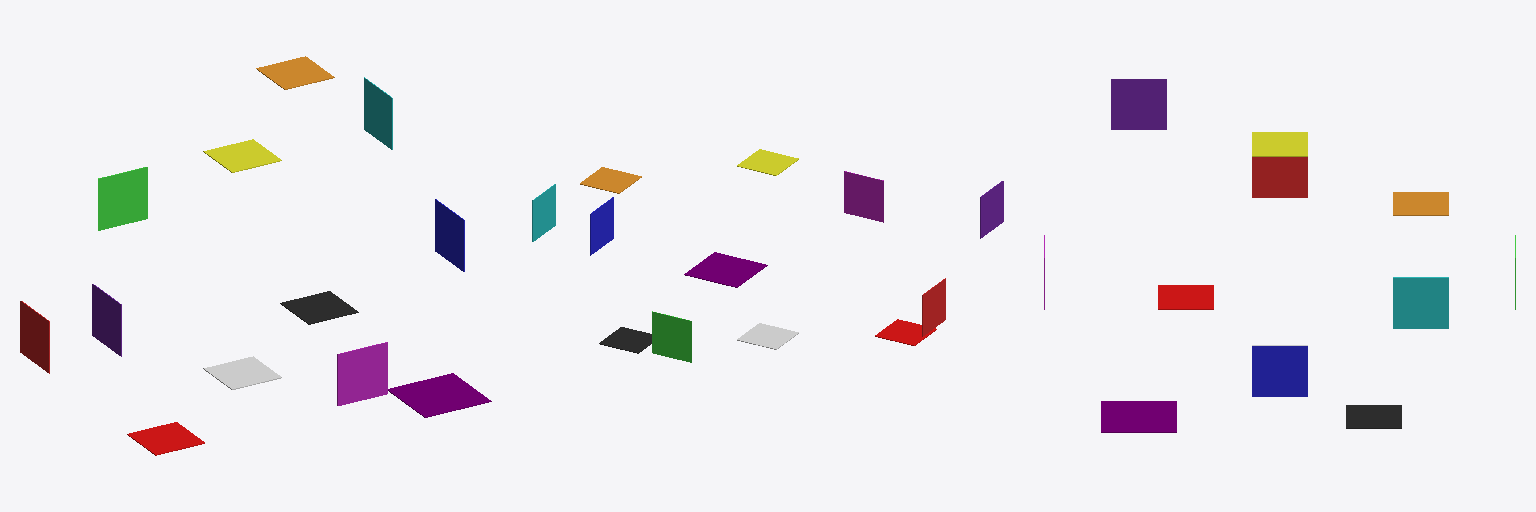
The robot description file, URDF, robot "marker_field":
<?xml version="1.0"?>
<robot name="marker_field">
  <!-- Base link to anchor all markers -->
  <link name="world">
    <inertial>
      <mass value="0.001"/>
      <inertia ixx="1e-6" ixy="0" ixz="0" iyy="1e-6" iyz="0" izz="1e-6"/>
    </inertial>
  </link>

  <!-- Floor marker at origin -->
  <link name="floor_center_white">
    <visual>
      <origin xyz="0 0 0" rpy="0 0 0"/>
      <geometry>
        <box size="0.6 0.6 0.01"/>
      </geometry>
      <material name="white">
        <color rgba="0.9 0.9 0.9 1.0"/>
      </material>
    </visual>
  </link>
  <joint name="world_to_marker_floor_center" type="fixed">
    <parent link="world"/>
    <child link="floor_center_white"/>
    <origin xyz="0 0 0" rpy="0 0 0"/>
  </joint>

  <!-- Floor marker offset -->
  <link name="floor_gray">
    <visual>
      <origin xyz="0 0 0" rpy="0 0 0"/>
      <geometry>
        <box size="0.6 0.6 0.01"/>
      </geometry>
      <material name="gray">
        <color rgba="0.2 0.2 0.2 1.0"/>
      </material>
    </visual>
  </link>
  <joint name="world_to_floor_gray" type="fixed">
    <parent link="world"/>
    <child link="floor_gray"/>
    <origin xyz="1.5 1.0 0" rpy="0 0 0"/>
  </joint>

  <!-- Floor marker neg offset -->
  <link name="floor_red">
    <visual>
      <origin xyz="0 0 0" rpy="0 0 0"/>
      <geometry>
        <box size="0.6 0.6 0.01"/>
      </geometry>
      <material name="floor3">
        <color rgba="0.9 0.1 0.1 1.0"/>
      </material>
    </visual>
  </link>
  <joint name="world_to_floor_red" type="fixed">
    <parent link="world"/>
    <child link="floor_red"/>
    <origin xyz="-1.5 -1.0 0" rpy="0 0 0"/>
  </joint>

  <!-- Floor marker diagonal -->
  <link name="floor_purple">
    <visual>
      <origin xyz="0 0 0" rpy="0 0 0"/>
      <geometry>
        <box size="0.8 0.8 0.01"/>
      </geometry>
      <material name="floor4">
        <color rgba="0.5 0.0 0.5 1.0"/>
      </material>
    </visual>
  </link>
  <joint name="world_to_floor_purple" type="fixed">
    <parent link="world"/>
    <child link="floor_purple"/>
    <origin xyz="1.5 -1.5 0" rpy="0 0 0"/>
  </joint>

  <!-- Wall marker +X -->
  <link name="wall_x_blue">
    <visual>
      <origin xyz="0 0 0" rpy="0 1.5708 0"/>
      <geometry>
        <box size="0.6 0.6 0.01"/>
      </geometry>
      <material name="blue">
        <color rgba="0.2 0.2 0.9 1.0"/>
      </material>
    </visual>
  </link>
  <joint name="world_to_wall_x_blue" type="fixed">
    <parent link="world"/>
    <child link="wall_x_blue"/>
    <origin xyz="2.5 0 1.0" rpy="0 0 0"/>
  </joint>

  <!-- Wall marker -X -->
  <link name="wall_neg_x_red">
    <visual>
      <origin xyz="0 0 0" rpy="0 1.5708 0"/>
      <geometry>
        <box size="0.6 0.6 0.01"/>
      </geometry>
      <material name="red">
        <color rgba="0.9 0.2 0.2 1.0"/>
      </material>
    </visual>
  </link>
  <joint name="world_to_wall_neg_x_red" type="fixed">
    <parent link="world"/>
    <child link="wall_neg_x_red"/>
    <origin xyz="-2.5 0 1.0" rpy="0 0 0"/>
  </joint>

  <!-- Wall marker +Y -->
  <link name="wall_pos_y_green">
    <visual>
      <origin xyz="0 0 0" rpy="1.5708 1.5708 0"/>
      <geometry>
        <box size="0.6 0.6 0.01"/>
      </geometry>
      <material name="green">
        <color rgba="0.3 0.9 0.3 1.0"/>
      </material>
    </visual>
  </link>
  <joint name="world_to_wall_pos_y_green" type="fixed">
    <parent link="world"/>
    <child link="wall_pos_y_green"/>
    <origin xyz="0 2.5 1.0" rpy="0 0 0"/>
  </joint>

  <!-- Wall marker -Y -->
  <link name="wall_neg_y_magenta">
    <visual>
      <origin xyz="0 0 0" rpy="1.5708 1.5708 0"/>
      <geometry>
        <box size="0.6 0.6 0.01"/>
      </geometry>
      <material name="magenta">
        <color rgba="0.8 0.2 0.8 1.0"/>
      </material>
    </visual>
  </link>
  <joint name="world_to_wall_neg_y_magenta" type="fixed">
    <parent link="world"/>
    <child link="wall_neg_y_magenta"/>
    <origin xyz="0 -2.5 1.0" rpy="0 0 0"/>
  </joint>

  <!-- Additional wall markers -->
  <link name="wall_pos_x_high">
    <visual>
      <origin xyz="0 0 0" rpy="0 1.5708 0"/>
      <geometry>
        <box size="0.6 0.6 0.01"/>
      </geometry>
      <material name="cyan">
        <color rgba="0.2 0.8 0.8 1.0"/>
      </material>
    </visual>
  </link>
  <joint name="world_to_wall_pos_x_high" type="fixed">
    <parent link="world"/>
    <child link="wall_pos_x_high"/>
    <origin xyz="2.5 1.5 1.8" rpy="0 0 0"/>
  </joint>

  <link name="wall_neg_x_high">
    <visual>
      <origin xyz="0 0 0" rpy="0 1.5708 0"/>
      <geometry>
        <box size="0.6 0.6 0.01"/>
      </geometry>
      <material name="purple">
        <color rgba="0.5 0.2 0.7 1.0"/>
      </material>
    </visual>
  </link>
  <joint name="world_to_wall_neg_x_high" type="fixed">
    <parent link="world"/>
    <child link="wall_neg_x_high"/>
    <origin xyz="-2.5 -1.5 1.8" rpy="0 0 0"/>
  </joint>

  <!-- Ceiling marker -->
  <link name="ceiling_yellow">
    <visual>
      <origin xyz="0 0 0" rpy="3.14159 0 0"/>
      <geometry>
        <box size="0.6 0.6 0.01"/>
      </geometry>
      <material name="yellow">
        <color rgba="0.9 0.9 0.2 1.0"/>
      </material>
    </visual>
  </link>
  <joint name="world_to_ceiling" type="fixed">
    <parent link="world"/>
    <child link="ceiling_yellow"/>
    <origin xyz="0 0 2.5" rpy="0 0 0"/>
  </joint>

  <!-- Ceiling marker offset -->
  <link name="ceiling_orange">
    <visual>
      <origin xyz="0 0 0" rpy="3.14159 0 0"/>
      <geometry>
        <box size="0.6 0.6 0.01"/>
      </geometry>
      <material name="orange">
        <color rgba="0.9 0.6 0.2 1.0"/>
      </material>
    </visual>
  </link>
  <joint name="world_to_ceiling_offset" type="fixed">
    <parent link="world"/>
    <child link="ceiling_orange"/>
    <origin xyz="1.5 1.5 2.5" rpy="0 0 0"/>
  </joint>
</robot>

--- Render facts (derived) ---
Views: 3 orthographic renders of the robot side by side, from view 1: azimuth 30°, elevation 25°; view 2: azimuth 150°, elevation 25°; view 3: azimuth 270°, elevation 25°.
Model marker_field with 13 links and 12 joints (12 fixed), rooted at world, posed every joint at zero.
Links seen in each view (by area): view 1: wall_neg_y_magenta, wall_pos_y_green, floor_purple, wall_x_blue, wall_neg_x_red, wall_neg_x_high, wall_pos_x_high, floor_gray, floor_center_white, ceiling_yellow, floor_red, ceiling_orange; view 2: wall_pos_y_green, wall_neg_y_magenta, floor_purple, wall_x_blue, wall_neg_x_red, wall_pos_x_high, wall_neg_x_high, ceiling_orange, floor_center_white, ceiling_yellow, floor_gray, floor_red; view 3: wall_pos_x_high, wall_x_blue, wall_neg_x_high, floor_purple, wall_neg_x_red, floor_red, ceiling_yellow, floor_gray, ceiling_orange.
Boxes of the visible links, x1,y1,x2,y2 form: wall_neg_y_magenta: (337,342,387,405); wall_pos_y_green: (98,167,147,230); floor_purple: (388,373,491,417); wall_x_blue: (435,199,464,271); wall_neg_x_red: (20,301,49,373); wall_neg_x_high: (92,284,121,356); wall_pos_x_high: (364,77,392,149); floor_gray: (280,291,358,324); floor_center_white: (203,356,281,389); ceiling_yellow: (203,139,281,172); floor_red: (127,422,204,455); ceiling_orange: (256,56,334,89); wall_pos_y_green: (652,311,691,362); wall_neg_y_magenta: (844,171,883,222); floor_purple: (684,252,767,287); wall_x_blue: (590,197,613,255); wall_neg_x_red: (922,278,945,336); wall_pos_x_high: (532,184,555,241); wall_neg_x_high: (980,181,1003,238); ceiling_orange: (580,167,641,193); floor_center_white: (737,323,798,349); ceiling_yellow: (737,149,798,175); floor_gray: (599,327,651,353); floor_red: (875,319,936,345); wall_pos_x_high: (1393,277,1448,328); wall_x_blue: (1252,346,1307,396); wall_neg_x_high: (1111,79,1166,129); floor_purple: (1101,401,1176,432); wall_neg_x_red: (1252,157,1307,197); floor_red: (1158,285,1213,309); ceiling_yellow: (1252,132,1307,156); floor_gray: (1346,405,1401,428); ceiling_orange: (1393,192,1448,215).
Size in the robot's own frame: 5.01 by 5.01 by 2.51 metres.
Geometry: primitives only (box / cylinder / sphere), no mesh files.